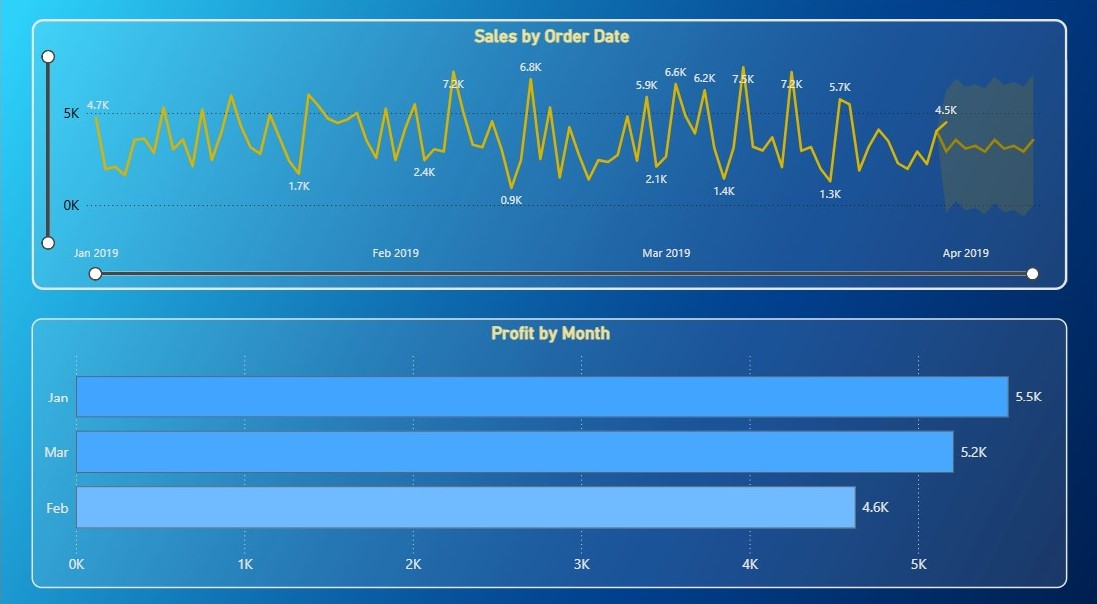

What the dashboard file says about the page in this screenshot:
{"tool":"powerbi","page":{"name":"Sales Trend","canvas":[1280,720],"ordinal":1},"visuals":[{"type":"lineChart","title":"Sales by Order Date","fields":{"Y":["Sum(SuperMarket Analysis.Total_Amount)"],"Category":["SuperMarket Analysis.Sales_Date.Variation.Date Hierarchy.Year","SuperMarket Analysis.Sales_Date.Variation.Date Hierarchy.Month","SuperMarket Analysis.Sales_Date.Variation.Date Hierarchy.Day"]},"box":[36,24,1208,316],"z":0},{"type":"clusteredBarChart","title":"Profit by Month","fields":{"Category":["SuperMarket Analysis.Month"],"Y":["Sum(SuperMarket Analysis.Profit)"]},"box":[36,374,1208,316],"z":1000}]}

Visuals, with their boxes in screenshot pixels (x1, y1, x2, y2), scaled from the page's 1280x720 canvas onto the 1097x604 screenshot:
"Sales by Order Date" lineChart: rect(31, 20, 1066, 285)
"Profit by Month" clusteredBarChart: rect(31, 314, 1066, 579)
